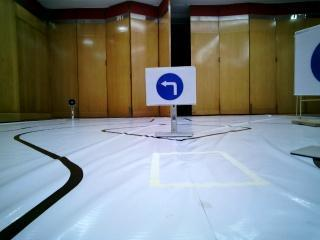left: (145, 68, 195, 103)
